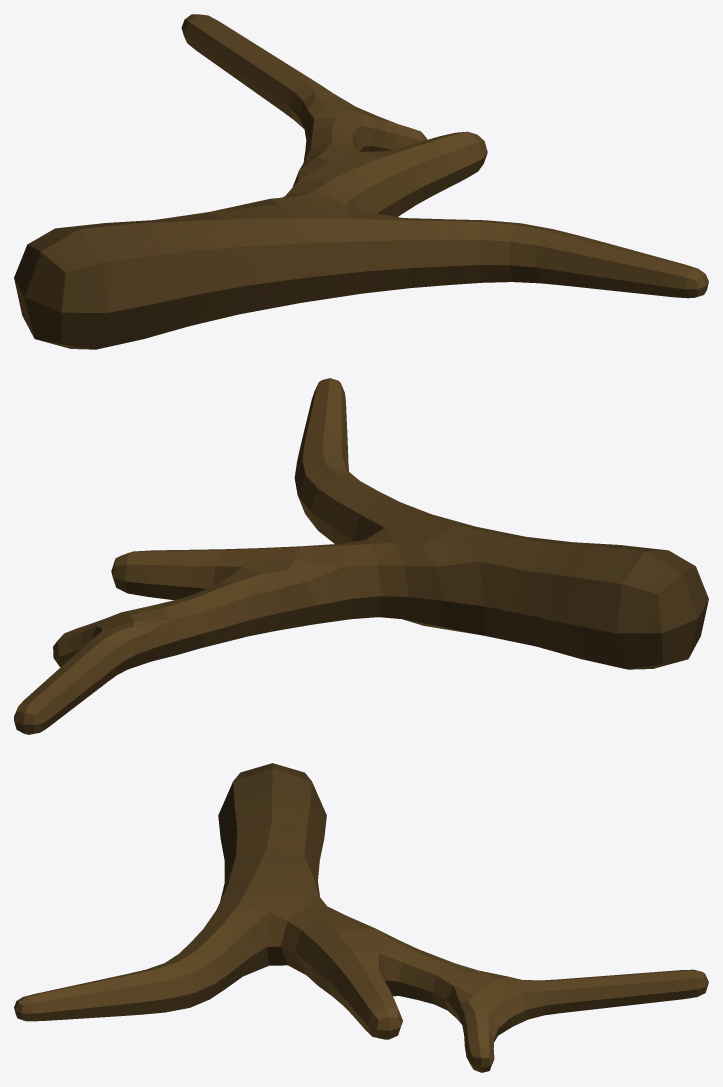
The model's file is roots_platform3.glb.
3 views of the same model, one above another, from view 1: azimuth 30°, elevation 25°; view 2: azimuth 150°, elevation 25°; view 3: azimuth 270°, elevation 25° (orthographic). The views are drawn at different scales.
Visible parts, largest first — view 1: Cube.030; view 2: Cube.030; view 3: Cube.030.
Part boxes in pixels (x1,y1,x2,y2): Cube.030: (14, 14, 708, 349); Cube.030: (14, 378, 708, 734); Cube.030: (14, 763, 708, 1072).
Bounding box in the file's own units: 0.5957 × 0.1486 × 0.8026.
1 material, 1 textured.
